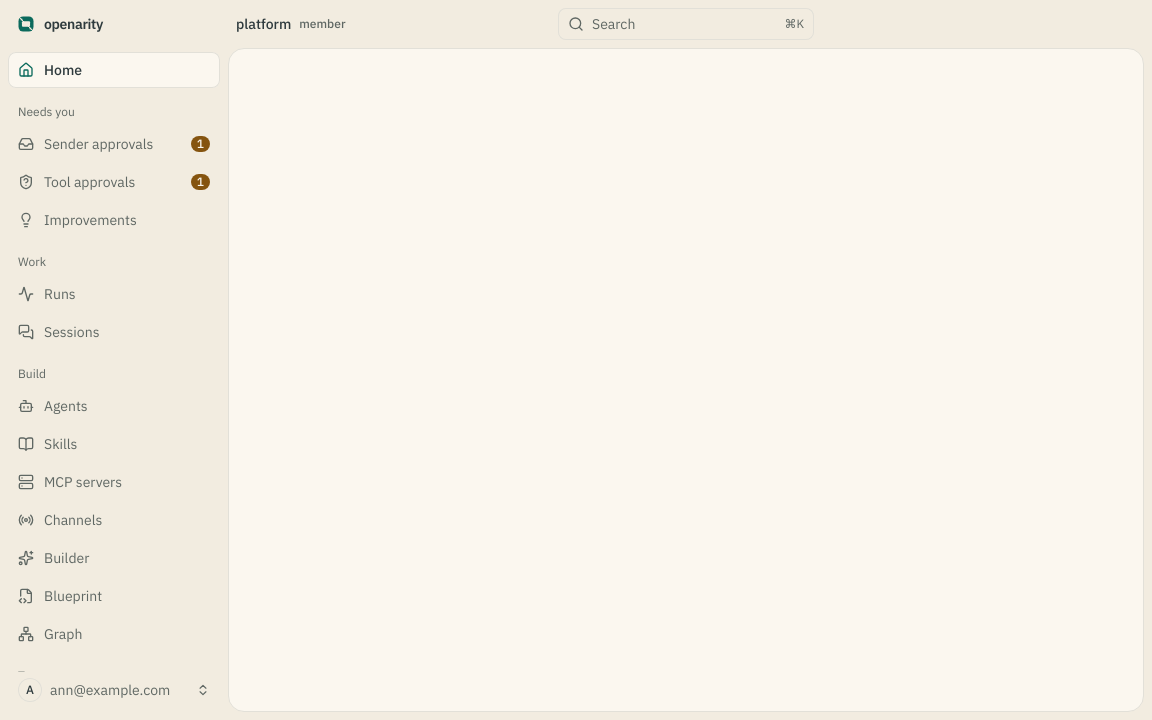
Test: notifications of approvals › is off where the browser no longer allows it, whatever was chosen
This screenshot has width=1152, height=720.
expect the navigation bar named "Main" is shown: met, box [8,52,220,672]
What coordinates should you click on to do the following:
click the button "A ann@example.com"
I would click on:
 (114, 690)
Its box is [8,672,220,708].
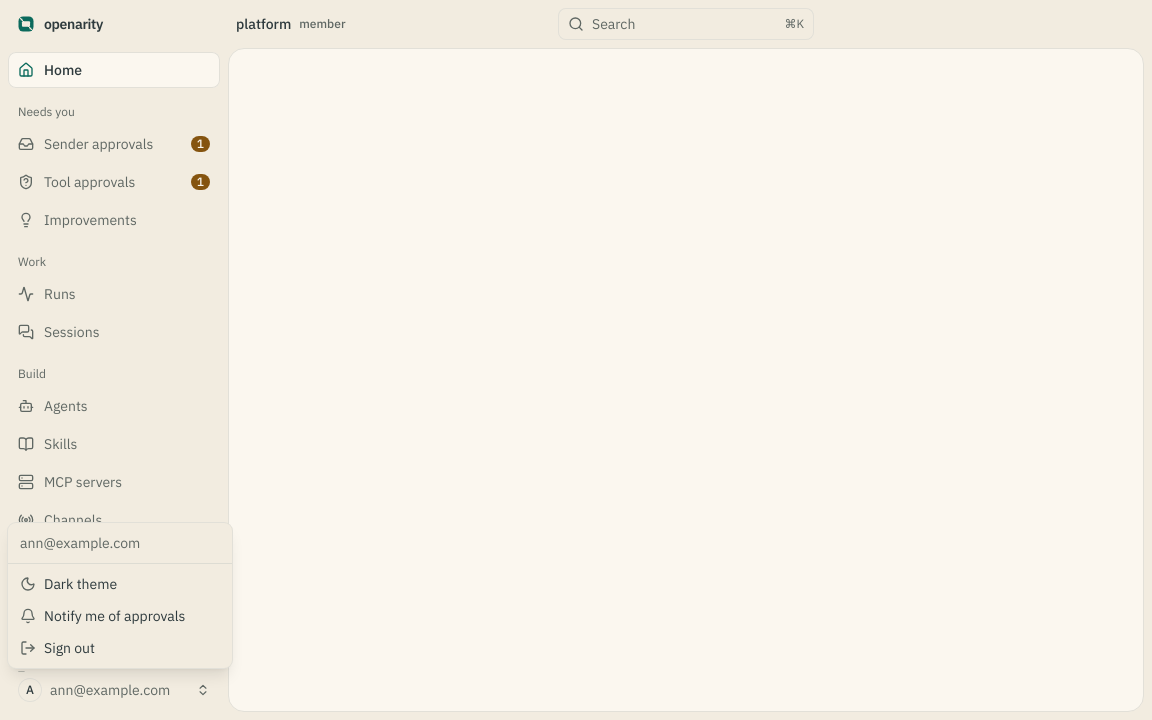
expect the menu item "Notify me of approvals" is shown: met, box [20,607,185,625]
